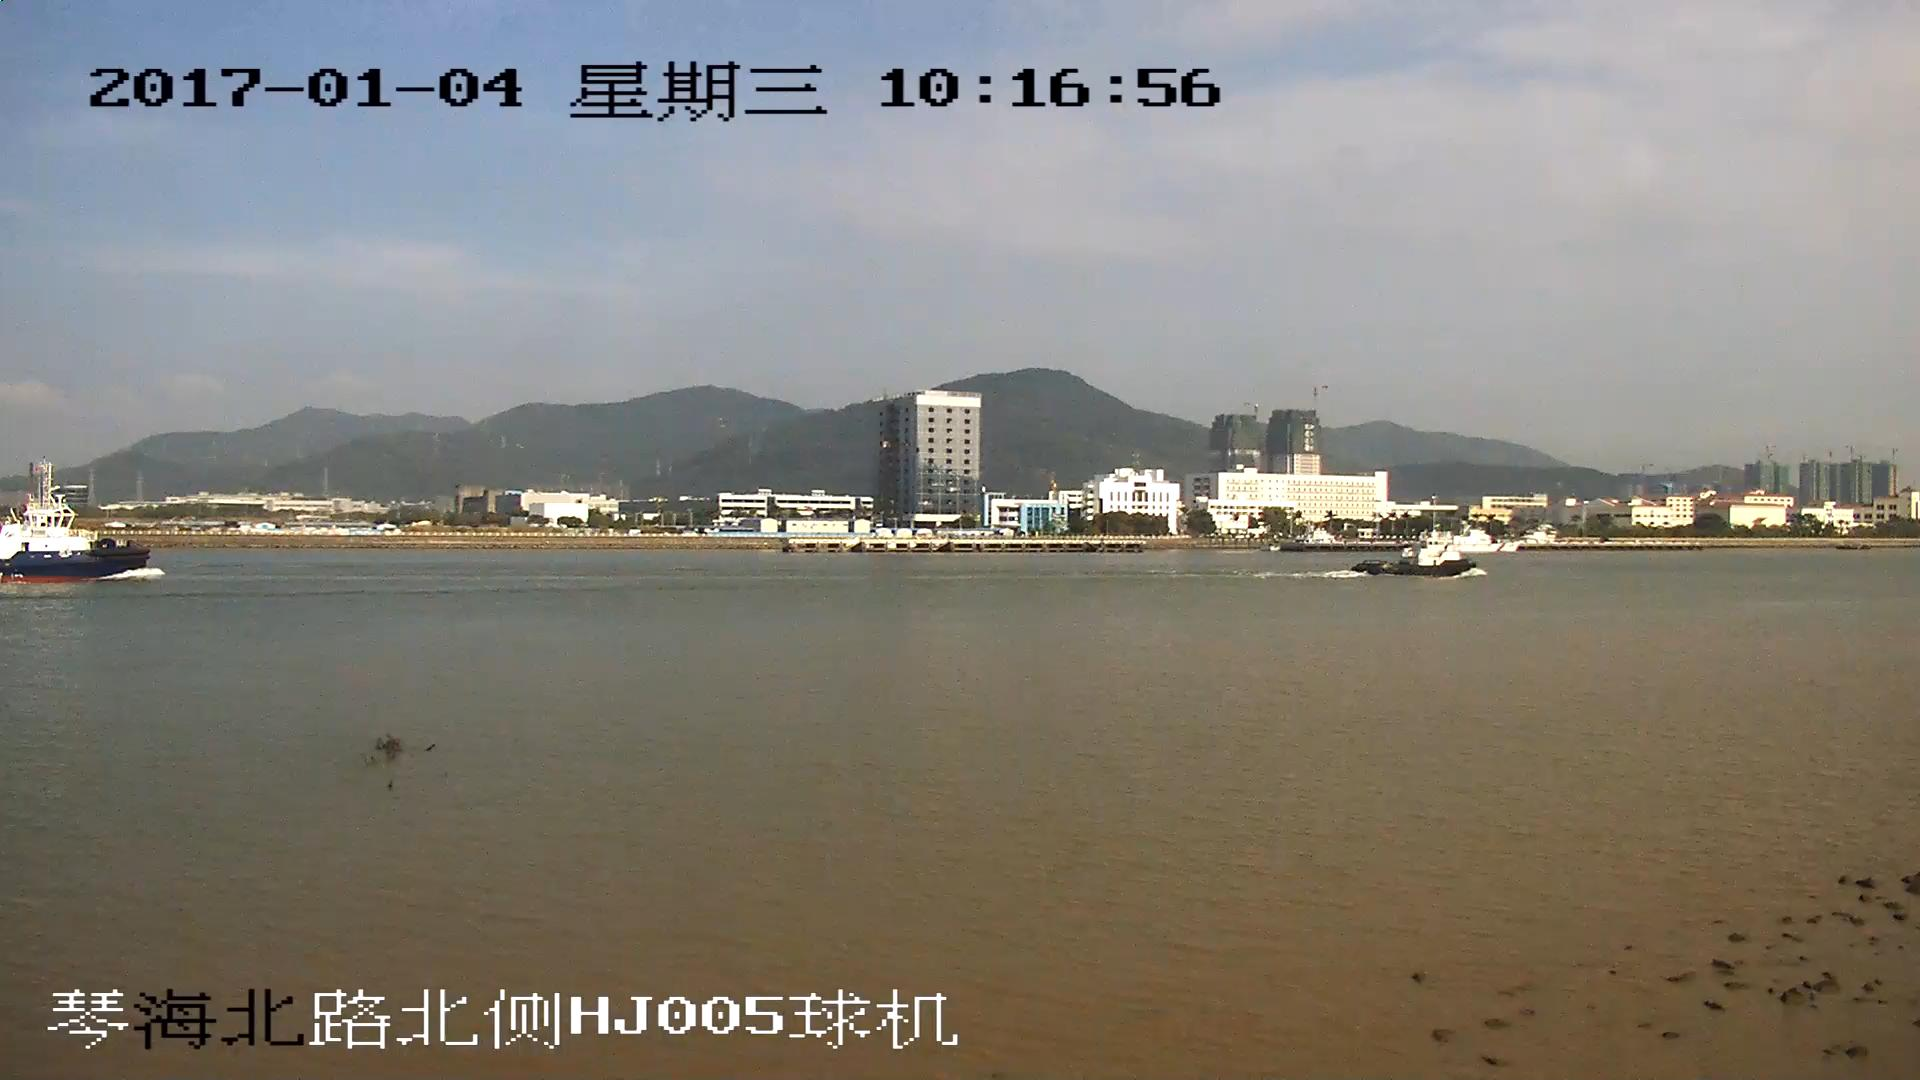fishing boat: (1, 506, 150, 582), (1362, 538, 1477, 575)
